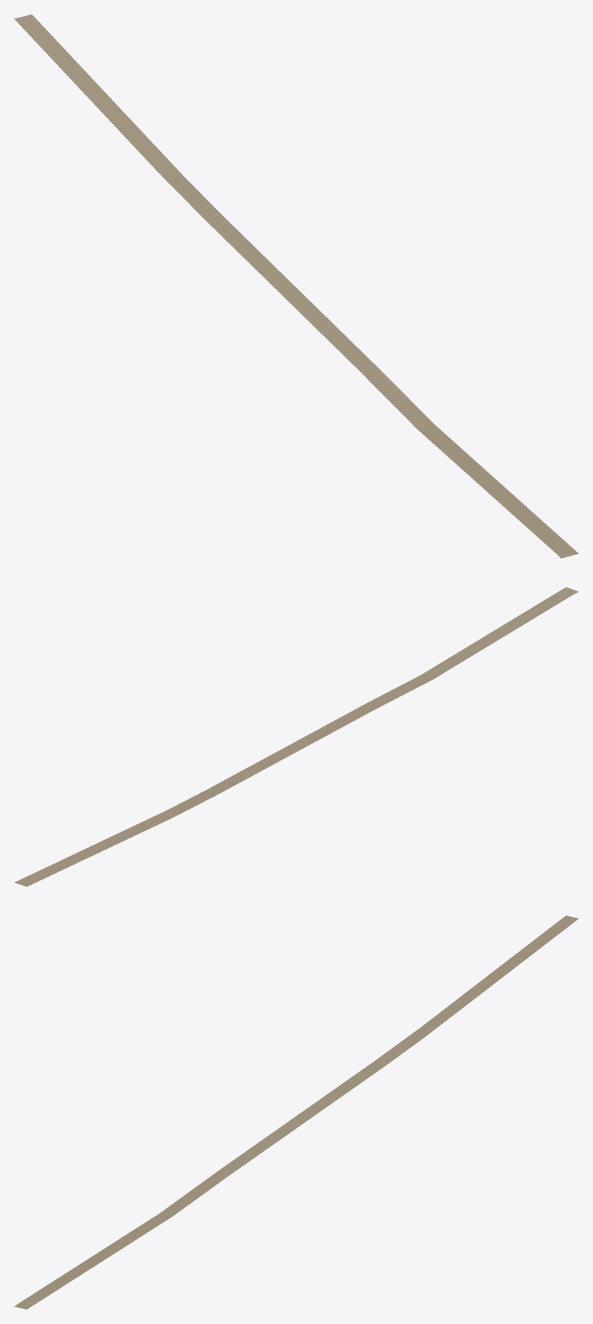
The model's file is farm_-7_9_track.glb.
3 views of the same model, one above another, from view 1: azimuth 30°, elevation 25°; view 2: azimuth 150°, elevation 25°; view 3: azimuth 330°, elevation 25° (orthographic). The views are drawn at different scales.
Visible parts, largest first — view 1: geometry_0; view 2: geometry_0; view 3: geometry_0.
Part boxes in pixels (x1,y1,x2,y2): geometry_0: [14, 14, 578, 558]; geometry_0: [14, 587, 578, 886]; geometry_0: [14, 915, 578, 1309].
Size of the model in its own units: 18.42 by 11.28 by 206.
